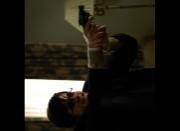gun: (78, 4, 90, 26)
